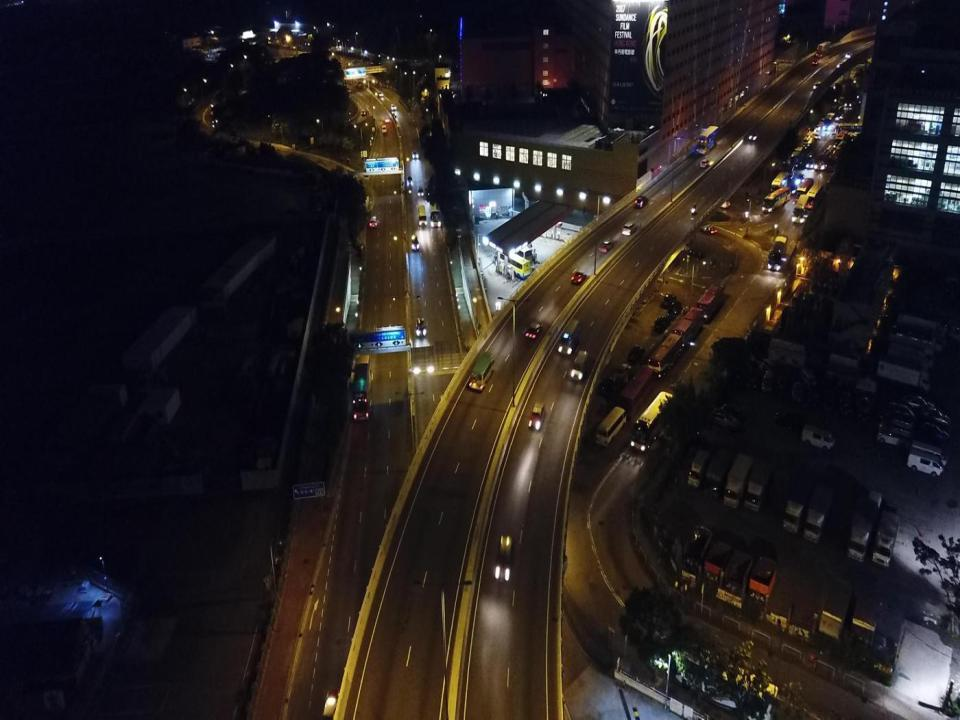bus: (676, 643, 778, 719), (631, 391, 673, 451), (622, 364, 655, 418), (648, 334, 682, 381), (670, 307, 702, 351), (352, 354, 371, 420), (492, 248, 532, 279), (696, 282, 724, 324), (469, 352, 494, 393), (762, 186, 790, 214), (558, 320, 580, 354), (768, 235, 788, 270), (499, 246, 533, 265), (697, 126, 719, 154), (794, 177, 814, 203), (805, 182, 823, 210), (792, 195, 809, 224), (816, 145, 832, 170), (429, 194, 441, 226), (771, 171, 787, 195), (790, 146, 804, 166), (835, 130, 848, 150), (802, 132, 814, 152), (816, 41, 830, 58)
car: (494, 536, 513, 582), (915, 421, 949, 445), (774, 410, 807, 432), (708, 410, 740, 432), (918, 408, 951, 428), (903, 396, 935, 414), (322, 689, 340, 717), (886, 402, 914, 420), (835, 122, 864, 138), (529, 402, 546, 428), (866, 491, 882, 517), (718, 404, 744, 419), (600, 377, 621, 394), (525, 322, 542, 340), (628, 345, 645, 363), (614, 364, 632, 379), (792, 381, 804, 403), (809, 386, 821, 408), (859, 396, 870, 420), (823, 390, 834, 412), (840, 392, 851, 414), (746, 370, 759, 388), (571, 271, 586, 285), (662, 294, 677, 308), (777, 376, 788, 395), (824, 112, 835, 131), (622, 222, 636, 236), (634, 196, 649, 209), (416, 318, 426, 336), (698, 224, 716, 234), (748, 130, 761, 140), (599, 242, 613, 251), (412, 236, 419, 250), (788, 185, 798, 194), (699, 159, 709, 167), (797, 174, 805, 182), (806, 160, 814, 168), (813, 82, 820, 89), (812, 133, 820, 139), (390, 104, 396, 111), (412, 151, 418, 158), (837, 63, 844, 69), (418, 188, 423, 196), (407, 176, 412, 183), (815, 124, 820, 131), (845, 53, 852, 58), (360, 110, 366, 115), (812, 61, 818, 66), (384, 117, 389, 122), (378, 92, 383, 96), (347, 88, 351, 92)
truck: (896, 310, 960, 354), (819, 568, 853, 640), (783, 466, 817, 534), (876, 354, 930, 393), (847, 497, 878, 563), (802, 482, 835, 544), (890, 323, 946, 358), (872, 511, 901, 569), (724, 453, 754, 508), (745, 459, 774, 512), (889, 343, 934, 371), (705, 449, 730, 498), (687, 450, 710, 487)
van: (596, 406, 627, 446), (911, 440, 947, 468), (908, 449, 943, 477), (801, 425, 836, 451), (876, 428, 912, 449), (878, 418, 912, 439), (570, 349, 588, 380), (709, 193, 730, 208), (654, 315, 671, 333), (800, 368, 816, 387), (667, 301, 681, 320), (763, 371, 774, 393), (762, 359, 777, 374), (419, 204, 426, 224), (370, 216, 377, 228), (381, 124, 387, 134)
